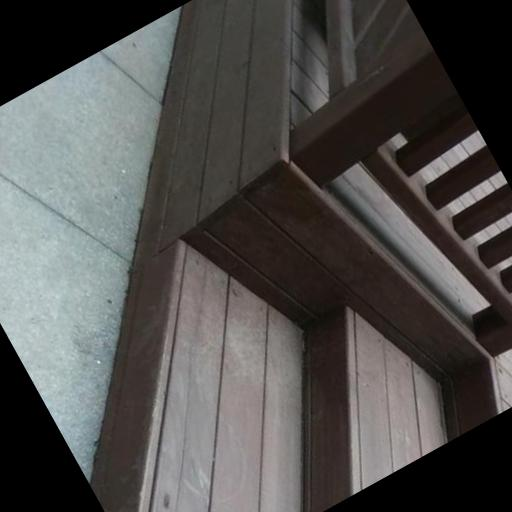stairs: (92, 240, 444, 511), (304, 308, 444, 511)
